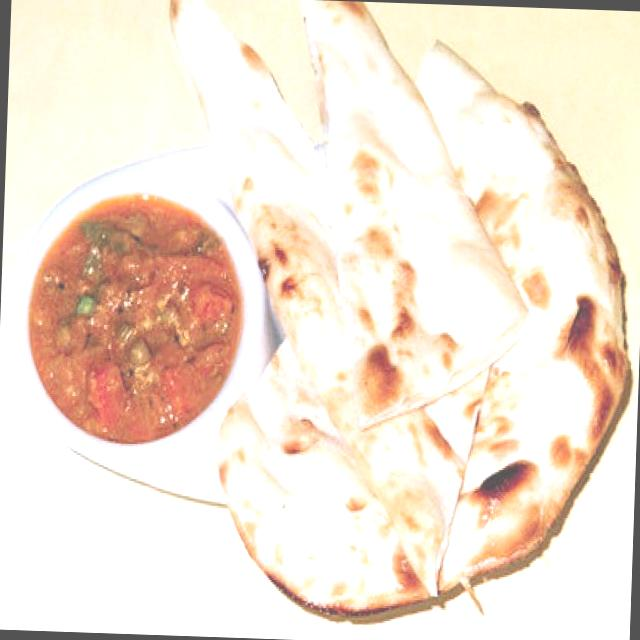Beef Curry: (46, 200, 228, 416)
